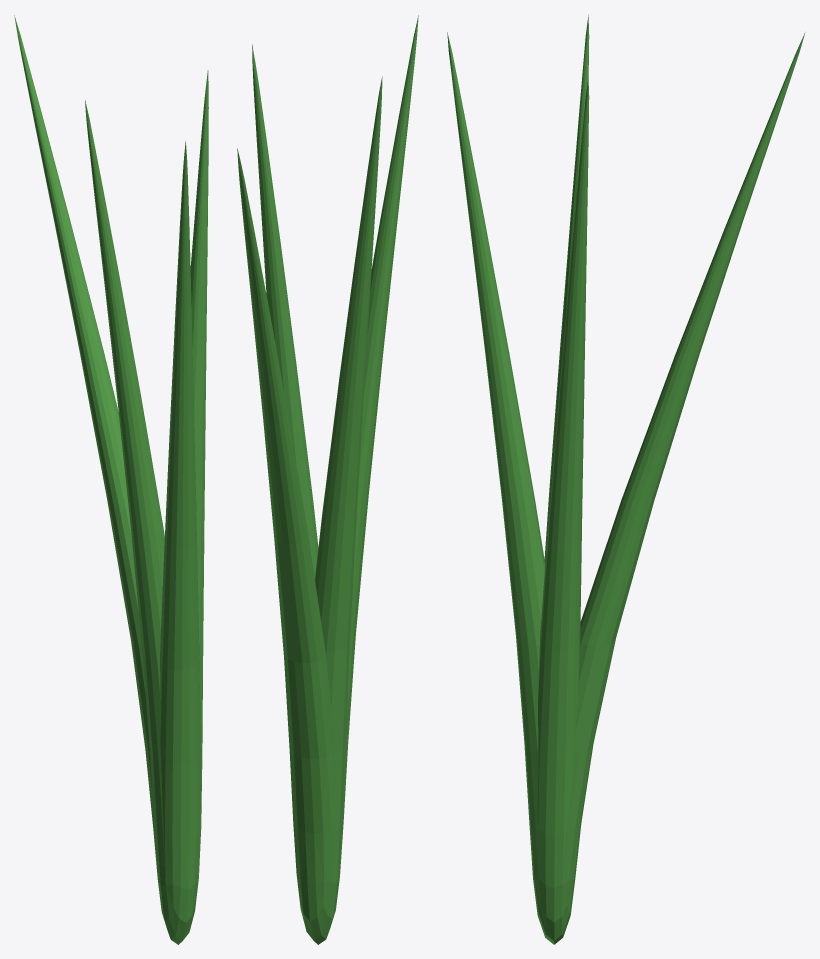
The model's file is Grass 8.fbx.
3 renders of one model, left to right at view 1: azimuth 30°, elevation 25°; view 2: azimuth 150°, elevation 25°; view 3: azimuth 270°, elevation 25°, orthographic. The views are drawn at different scales.
Parts seen in each view (by area): view 1: Cube, Cube_4; view 2: Cube, Cube_4; view 3: Cube, Cube_4.
Part boxes in pixels (box(x1,y1,x2,y2)): Cube: box(14, 15, 208, 944); Cube_4: box(160, 141, 200, 889); Cube: box(237, 44, 382, 944); Cube_4: box(340, 15, 418, 868); Cube: box(533, 14, 805, 944); Cube_4: box(447, 32, 545, 879).
Size of the model in its own units: 8.17 by 54 by 19.68.
